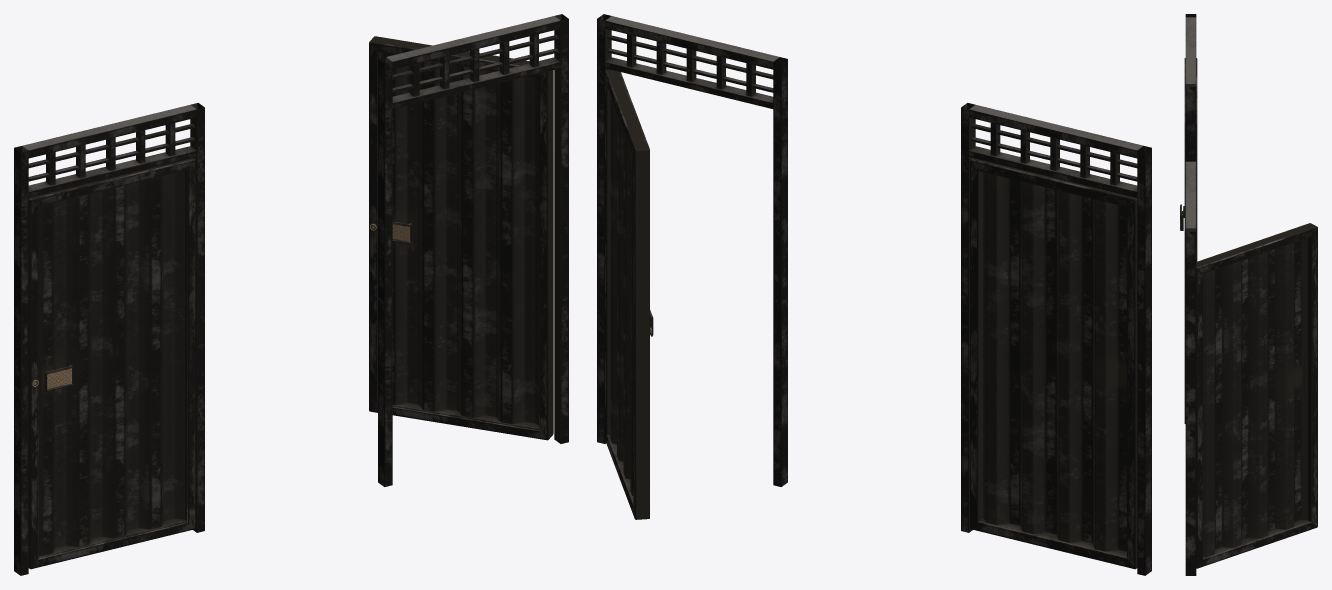
Rendered from door_metal-_20mb.glb.
The picture shows the model from 3 angles, left to right: view 1: azimuth 30°, elevation 25°; view 2: azimuth 150°, elevation 25°; view 3: azimuth 270°, elevation 25°; orthographic projection. The views are drawn at different scales.
Parts seen in each view (by area): view 1: door_2, door, base, base_2; view 2: door_2, door, base_2, base; view 3: door, base, base_2, door_2.
Boxes of the visible parts, x1,y1,x2,y2 form: door_2: (28,158,196,569); door: (369,36,553,440); base: (378,14,568,486); base_2: (14,103,204,575); door_2: (969,158,1137,569); door: (605,70,653,519); base_2: (961,103,1151,575); base: (597,14,787,486); door: (1196,223,1317,568); base: (1185,158,1196,575); base_2: (1185,14,1196,158); door_2: (1180,58,1197,423).
Bounding box in the file's own units: 4.03 × 2.98 × 1.08.
Materials: 1 (1 with a texture image).
